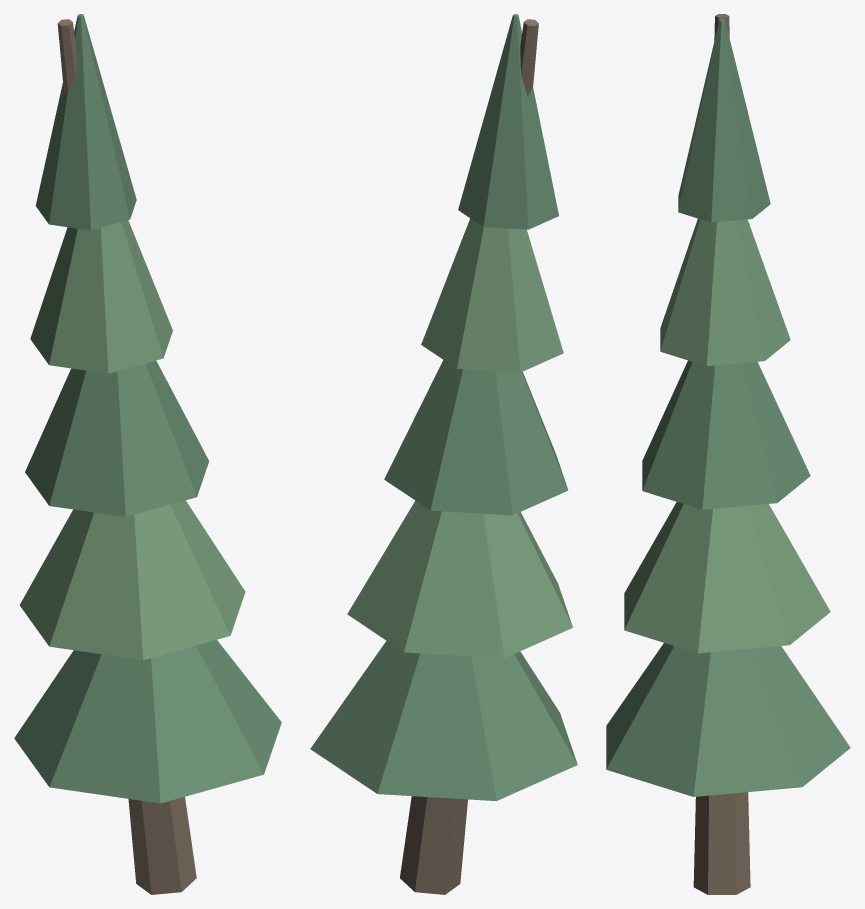
Rendered from pine_v25.glb.
3 renders of one model, left to right at view 1: azimuth 30°, elevation 25°; view 2: azimuth 150°, elevation 25°; view 3: azimuth 270°, elevation 25°, orthographic. The views are drawn at different scales.
Parts seen in each view (by area): view 1: lod0; view 2: lod0; view 3: lod0.
Boxes of the visible parts, left/top/right/bottom form: lod0: left=14, top=14, right=281, bottom=894; lod0: left=310, top=14, right=577, bottom=894; lod0: left=606, top=14, right=850, bottom=894.
Size of what is drawn, in the model's own units: 1.76 by 6.45 by 1.72.
